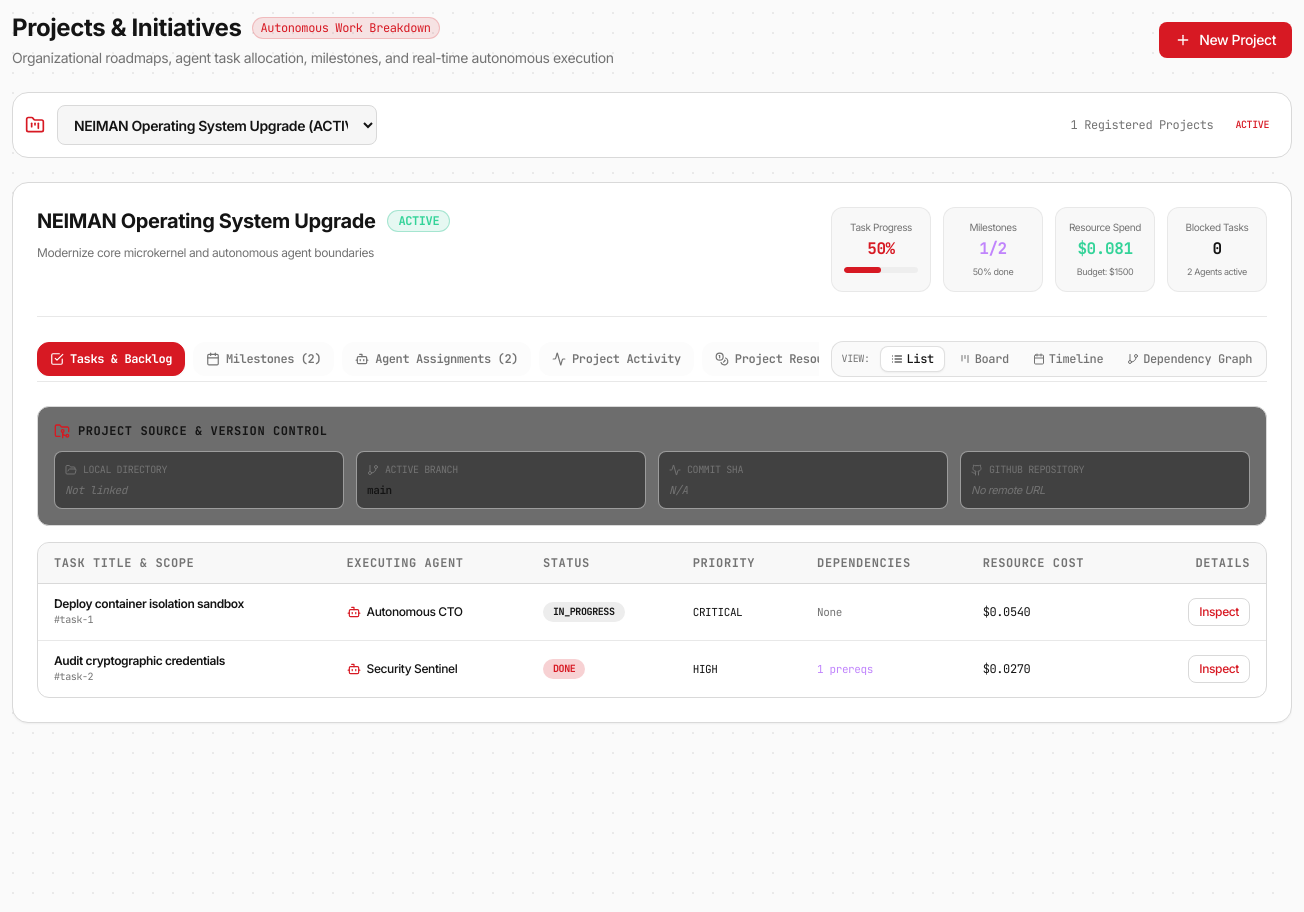
Projects & Task Management Experience › supports 4 interchangeable multi-views: List, Board, Timeline, and Dependency Graph
Expected: the text "Deploy container isolation sandbox" is shown, 54,596 -> 244,610
Board View
Click the button "Board". click: coordinates (984, 358)
box: 949,346 -> 1019,370
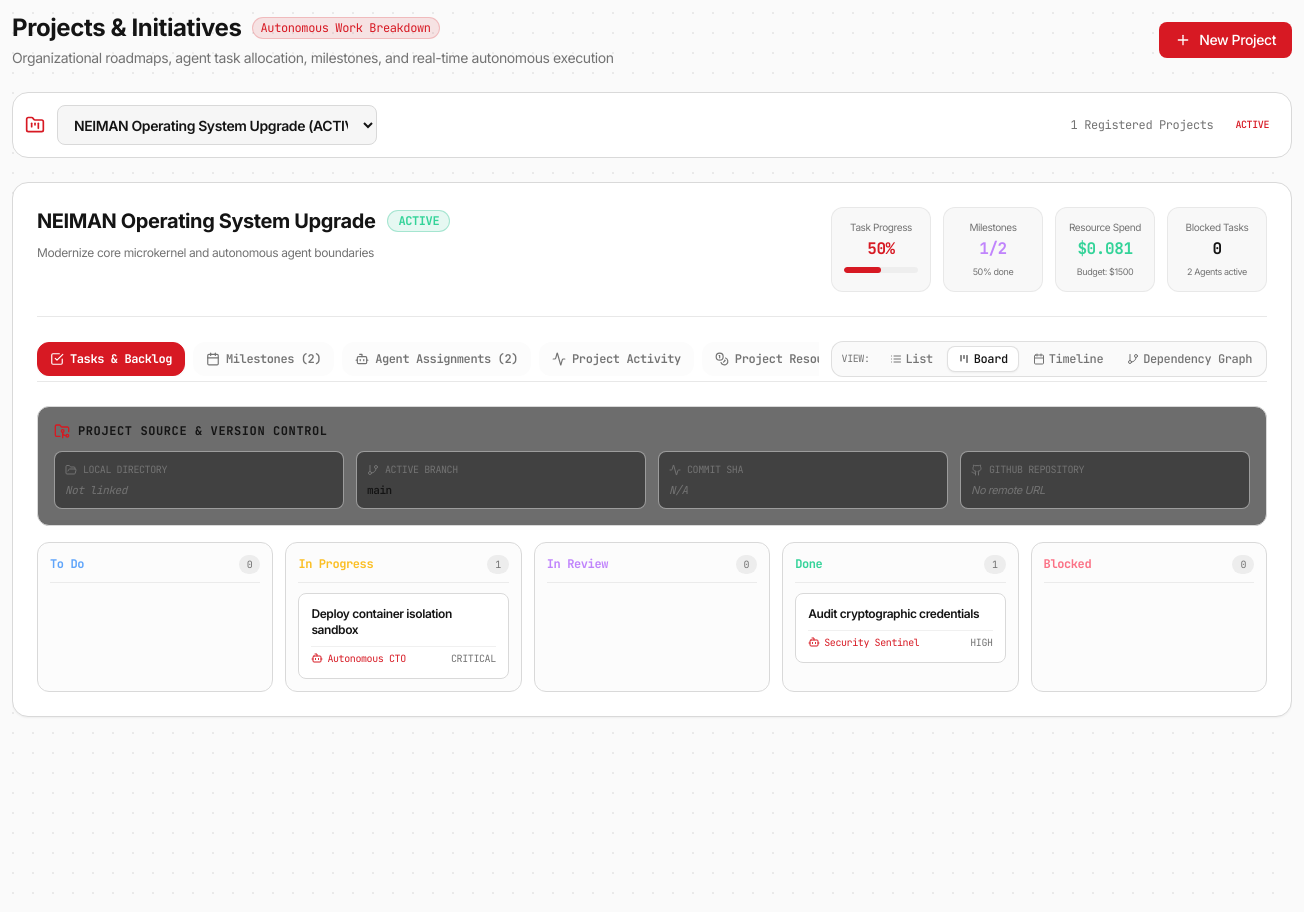
Expected: the text "To Do" is shown, 50,556 -> 84,572
Expected: the text "In Progress" is shown, 298,556 -> 373,572
Expected: the text "In Review" is shown, 547,556 -> 608,572
Timeline View
Click the button "Timeline". click: coordinates (1068, 358)
box: 1023,346 -> 1113,370
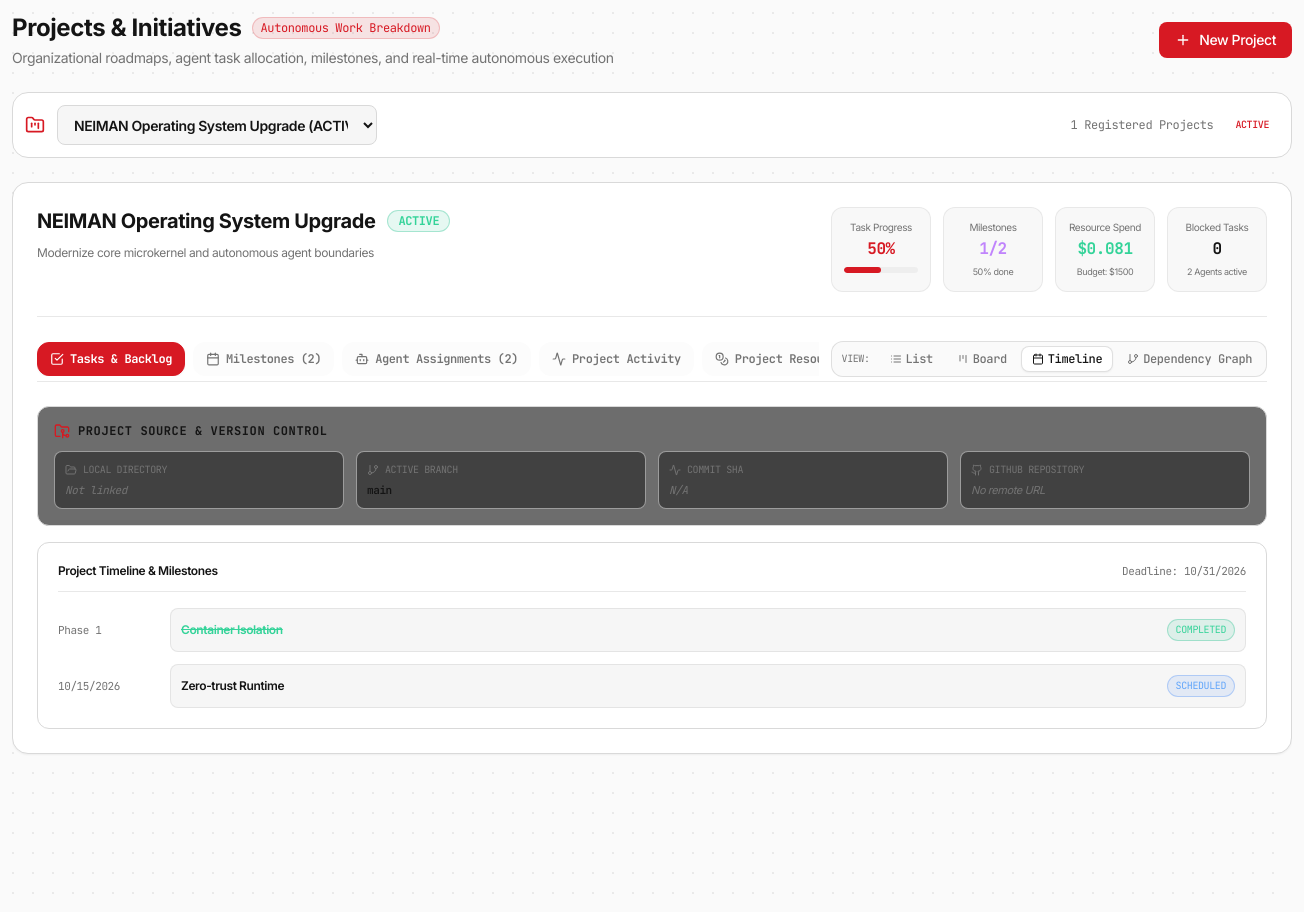
Expected: the text "Container Isolation" is shown, 181,622 -> 283,638
Expected: the text "Project Timeline & Milestones" is shown, 58,563 -> 218,579
Dependency Graph View
Click the button "Dependency Graph". click: coordinates (1190, 358)
box: 1117,346 -> 1262,370
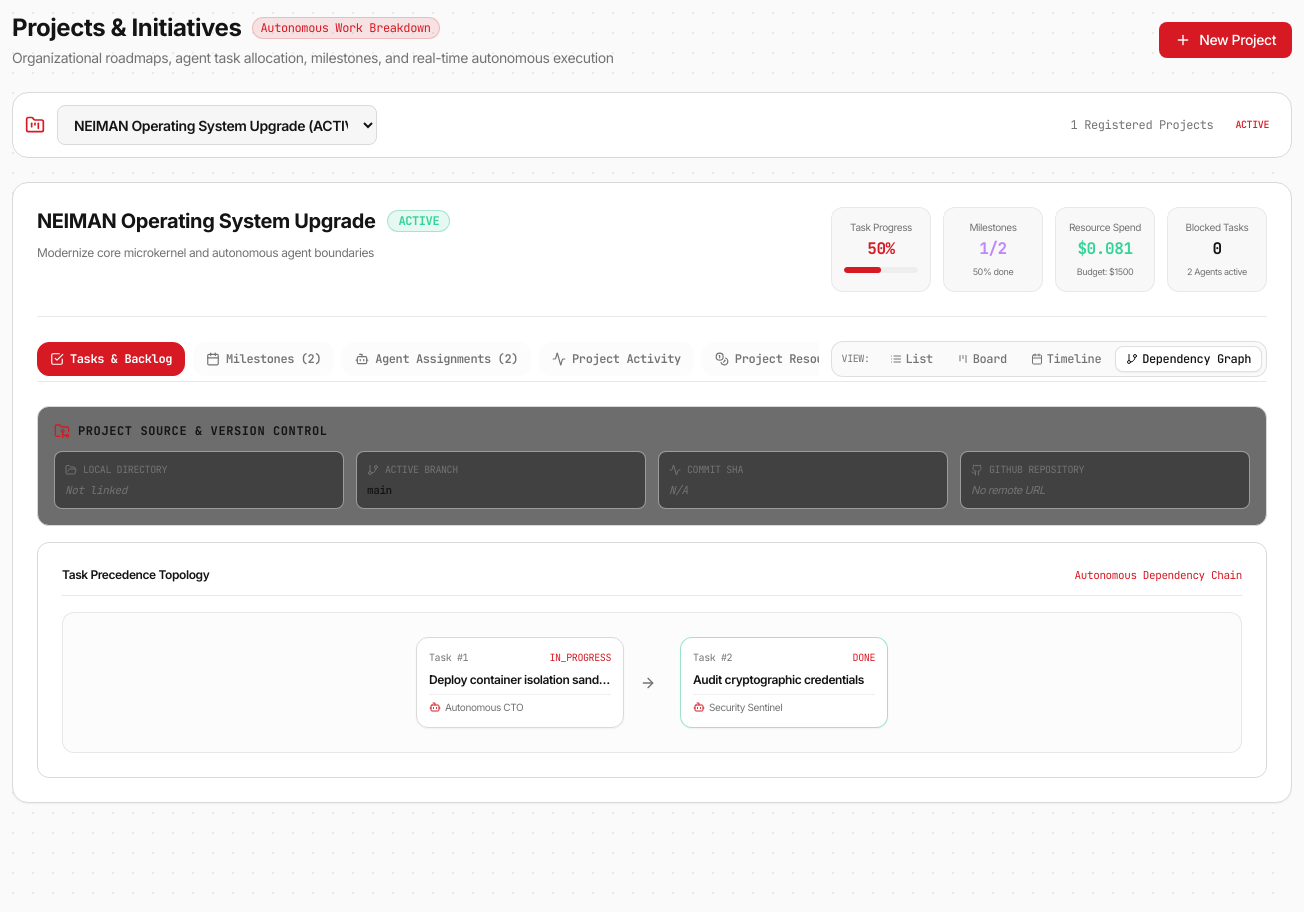
Expected: the text "Task Precedence Topology" is shown, 62,567 -> 209,583
List View
Click the button "List". click: coordinates (911, 358)
box: 880,346 -> 943,370
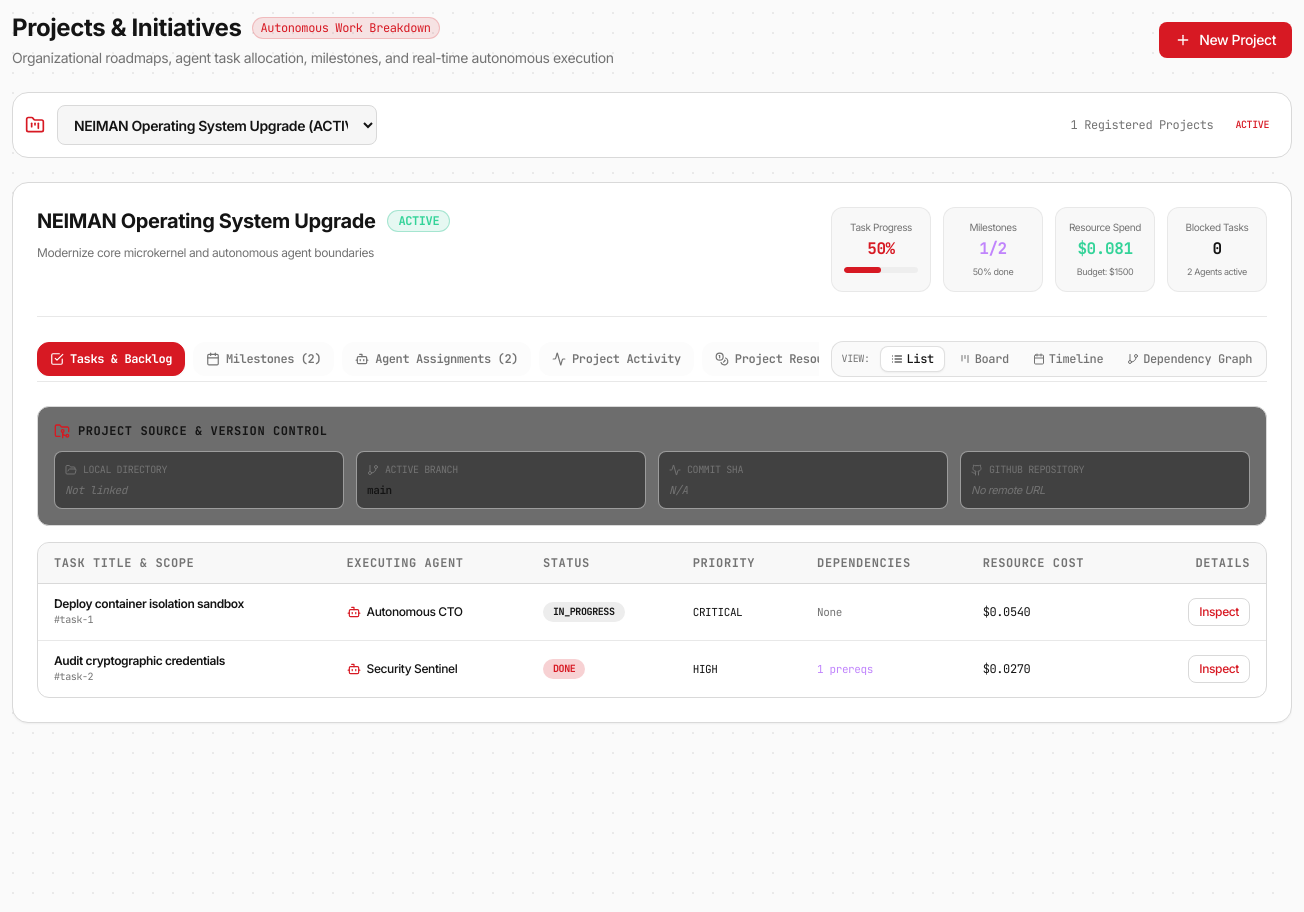
Expected: the column heading "Executing Agent" is shown, 330,542 -> 527,583
